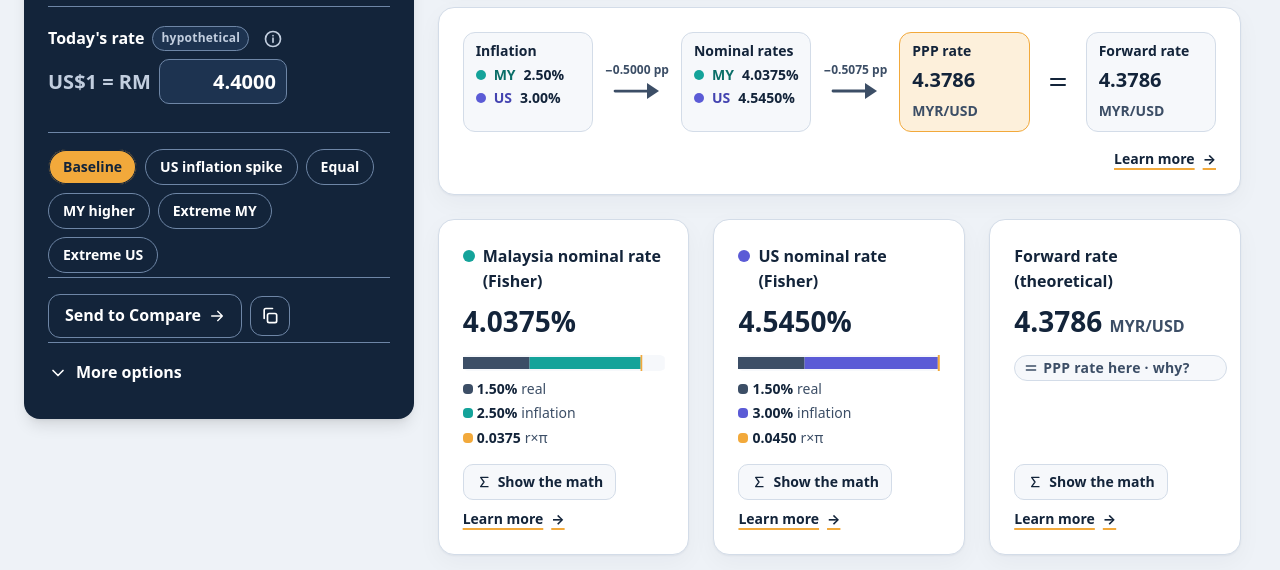
Test: Compare screen › Send to Compare carries the simulator inputs into Scenario B
(page scrolled)
Click the button "Extreme MY". click: (215, 211)
box: [158,193,272,229]
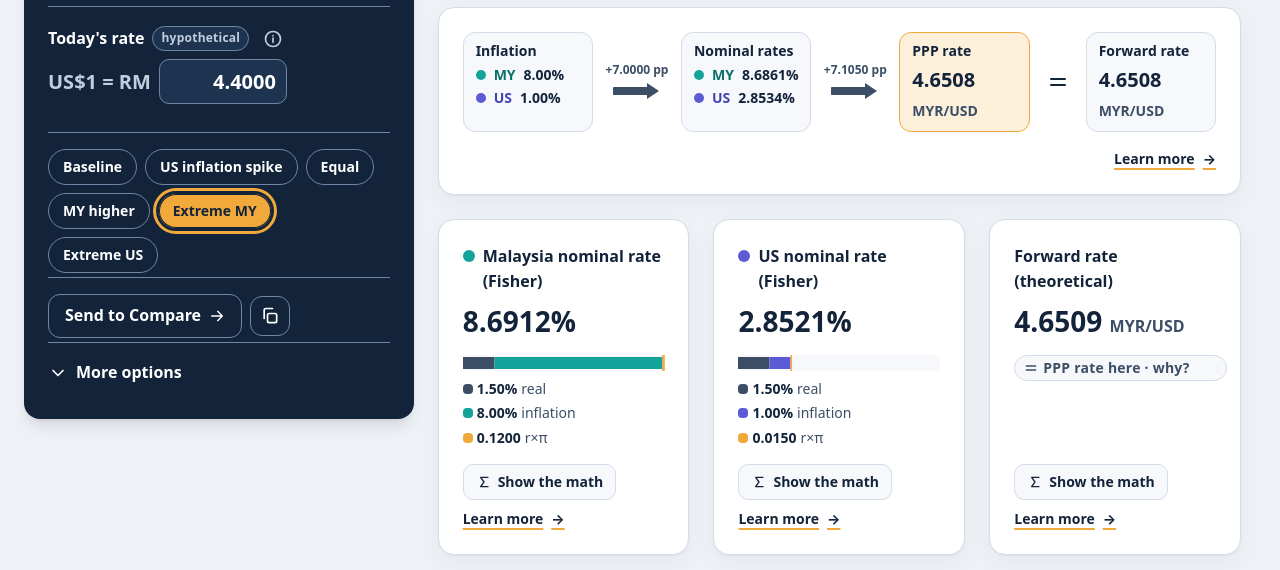
Click the button "Send to Compare". click: (145, 316)
box: [48,294,242,338]
(page scrolled)
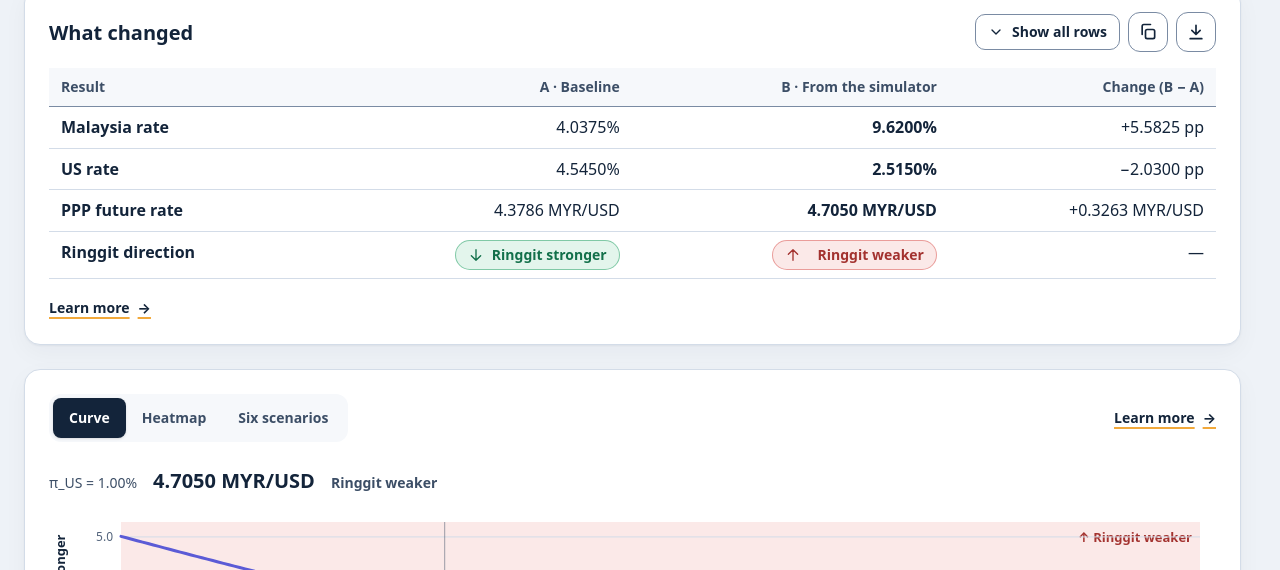
expect the text "4.7050 MYR/USD" is shown: met, box [632,190,949,232]
